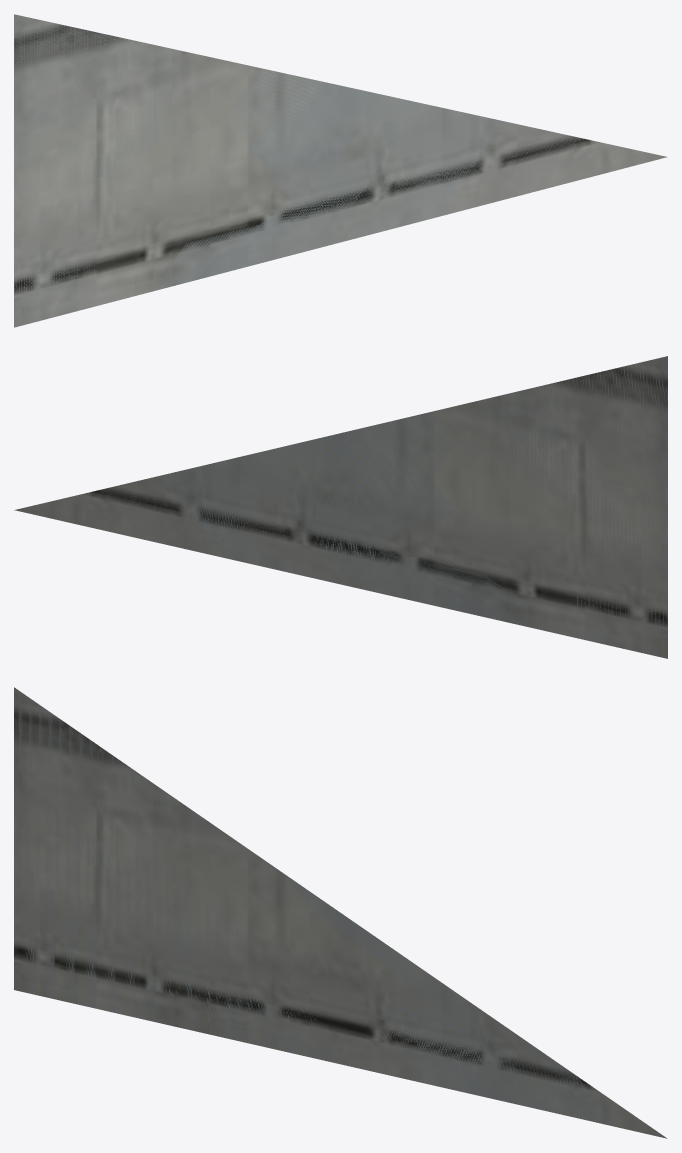
File: 人民英雄纪念碑6.dae
The picture shows the model from 3 angles, top to bottom: view 1: azimuth 30°, elevation 25°; view 2: azimuth 150°, elevation 25°; view 3: azimuth 330°, elevation 25°; orthographic projection. The views are drawn at different scales.
Parts seen in each view (by area): view 1: SketchUp; view 2: SketchUp; view 3: SketchUp.
Boxes of the visible parts, x1=… form: SketchUp: x1=14, y1=14, x2=667, y2=327; SketchUp: x1=14, y1=356, x2=667, y2=658; SketchUp: x1=14, y1=687, x2=667, y2=1138.
Size of the model in its own units: 157 by 4.67 by 70.87.
